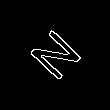N_SE: (23, 23, 87, 87)
